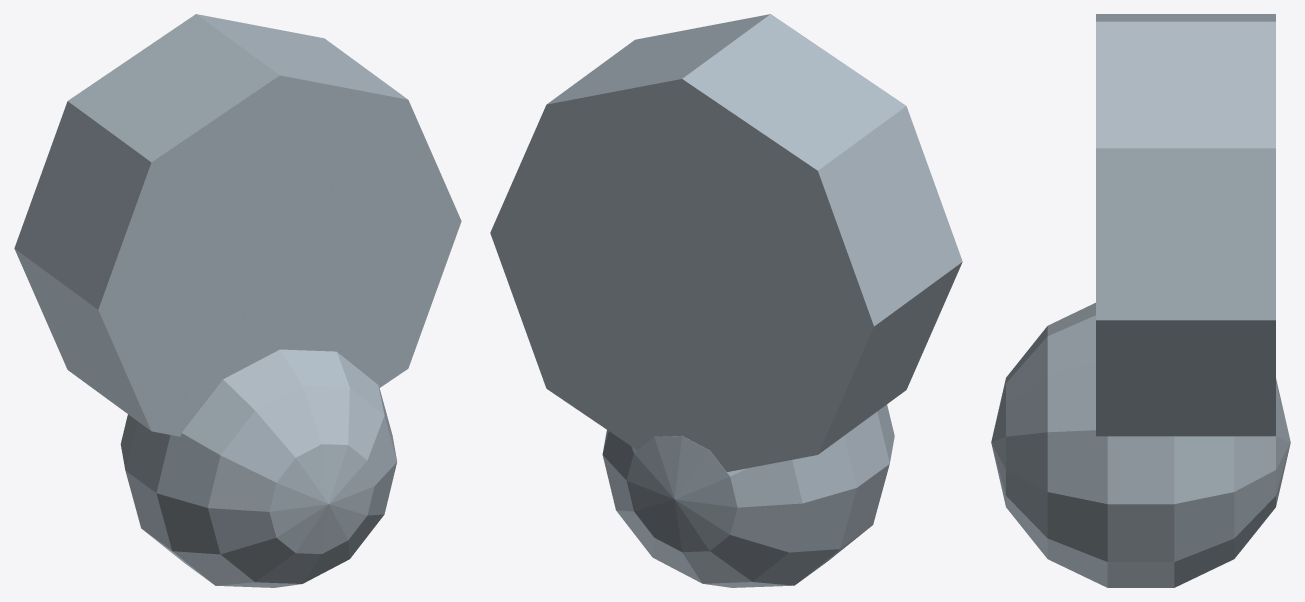
File: larin.glb
3 views of the same model, side by side, from view 1: azimuth 30°, elevation 25°; view 2: azimuth 150°, elevation 25°; view 3: azimuth 270°, elevation 25° (orthographic). The views are drawn at different scales.
Parts seen in each view (by area): view 1: Larin; view 2: Larin; view 3: Larin.
Boxes of the visible parts, left/top/right/bottom form: Larin: left=14, top=14, right=461, bottom=587; Larin: left=490, top=14, right=962, bottom=587; Larin: left=991, top=14, right=1290, bottom=587.
Bounding box in the file's own units: 0.3 × 0.4075 × 0.2.
